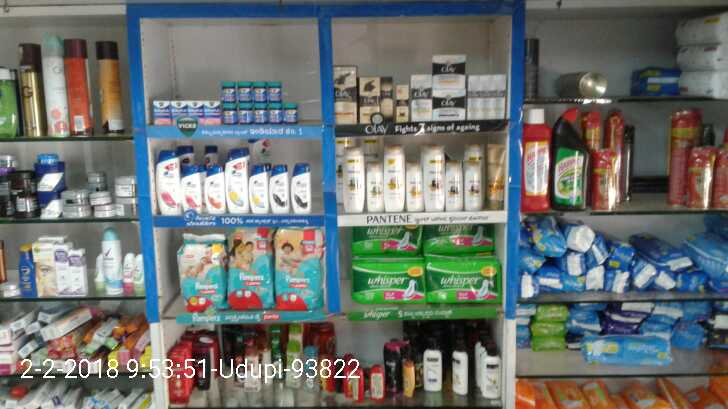beauty: (154, 144, 181, 216), (381, 143, 405, 215), (484, 141, 508, 213), (467, 73, 505, 118), (420, 145, 446, 210), (224, 149, 249, 216), (338, 144, 361, 215), (334, 67, 358, 126), (430, 53, 464, 90), (246, 165, 271, 215), (182, 162, 204, 213), (430, 87, 464, 119), (290, 159, 310, 212), (202, 165, 224, 213), (464, 161, 484, 210), (404, 163, 423, 213), (269, 165, 289, 212), (410, 74, 430, 119), (362, 162, 380, 212), (361, 77, 380, 124), (447, 159, 463, 214), (395, 86, 409, 122)
pharmacy: (271, 217, 324, 310), (217, 230, 276, 313), (174, 244, 224, 309), (352, 259, 417, 306), (345, 225, 423, 259), (422, 264, 496, 299), (425, 224, 498, 259), (191, 93, 220, 131), (143, 97, 173, 131), (174, 92, 195, 130), (251, 100, 268, 126), (235, 82, 253, 102), (235, 103, 251, 124), (266, 101, 281, 123), (266, 82, 282, 102), (220, 80, 233, 102), (251, 81, 265, 101), (284, 104, 297, 125), (221, 104, 232, 119)
